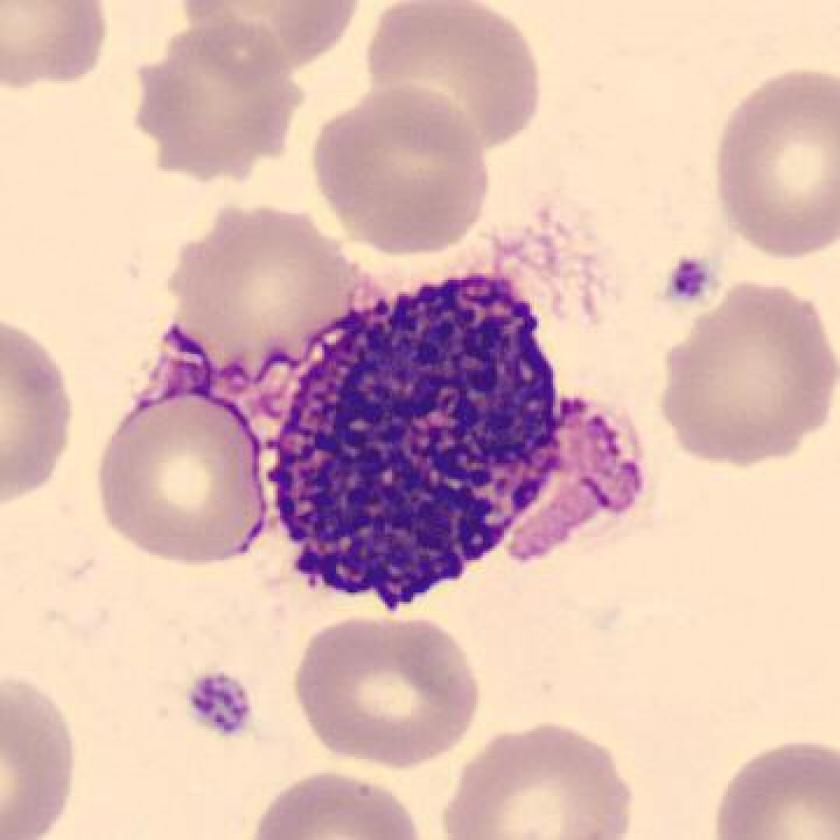basophil: (251, 256, 587, 614)
